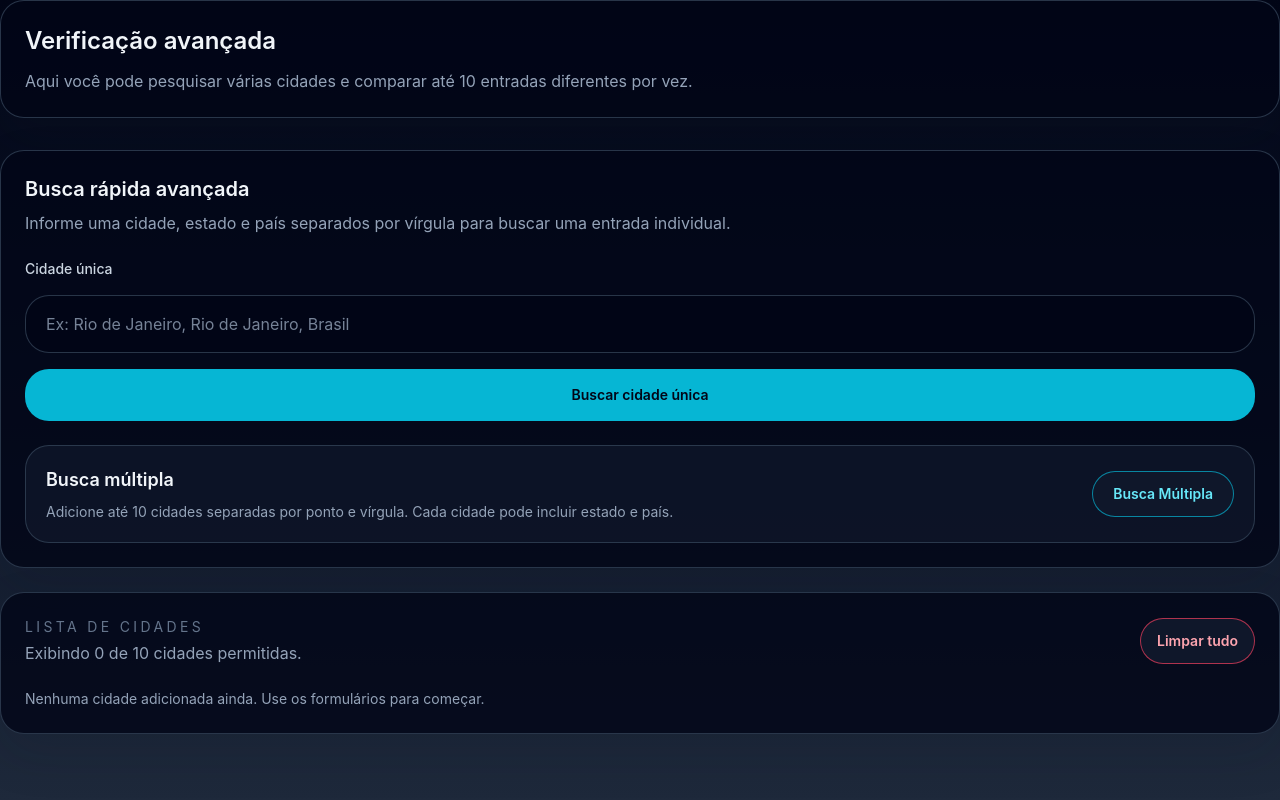
Test: AdvancedWeather › toggles the batch search form and shows the textarea
Click the button "Busca Múltipla" at (1163, 494), box 1092,471 -> 1234,517
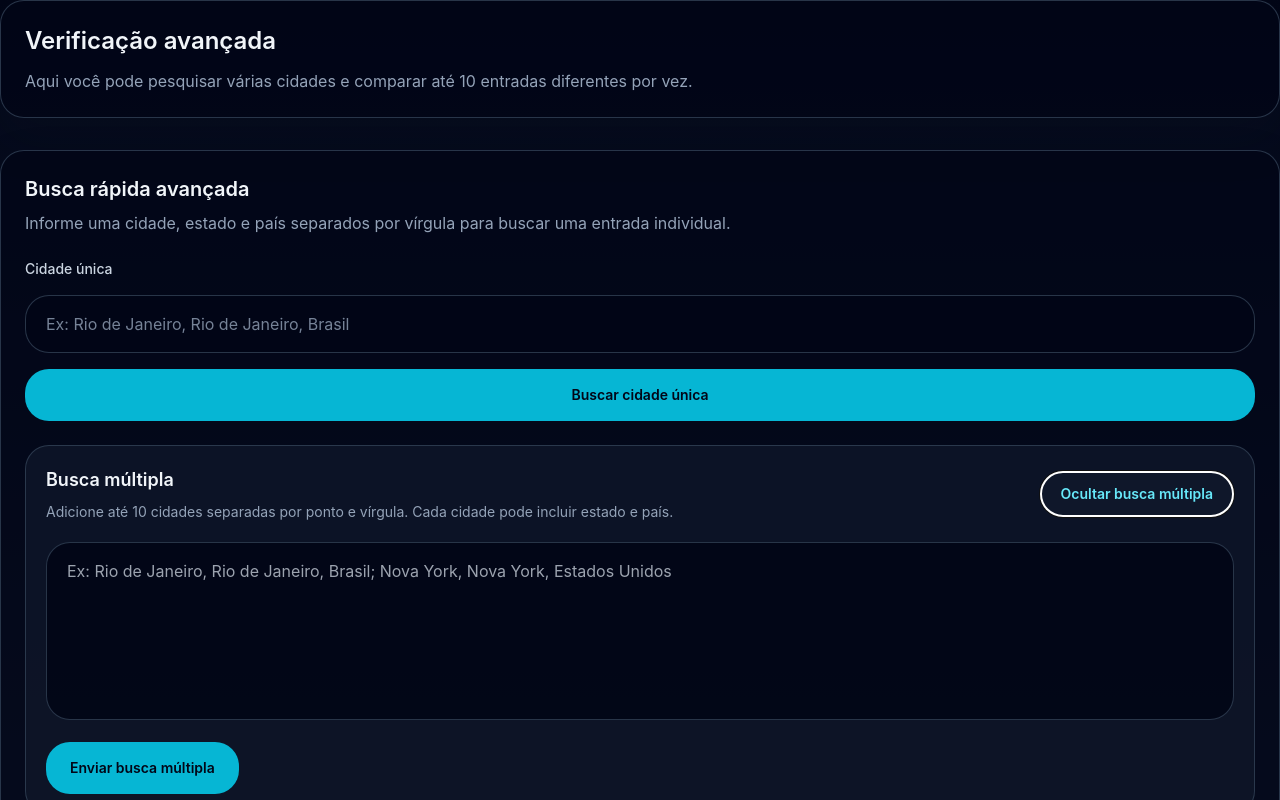
Expected: the text box with placeholder "Ex: Rio de Janeiro, Rio de Janeiro, Brasil; Nova York, Nova York, Estados Unidos" is shown, 46,542 -> 1234,720
